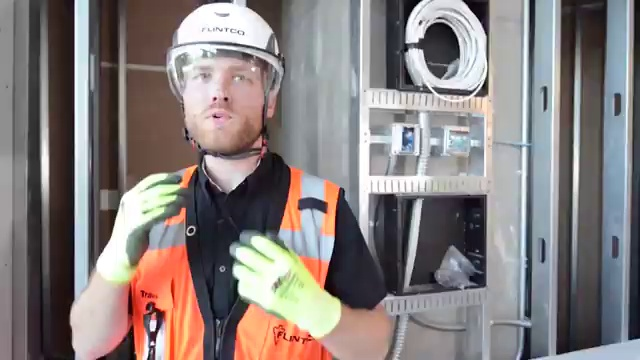helmet: (156, 1, 292, 86)
jacket: (111, 167, 353, 360)
